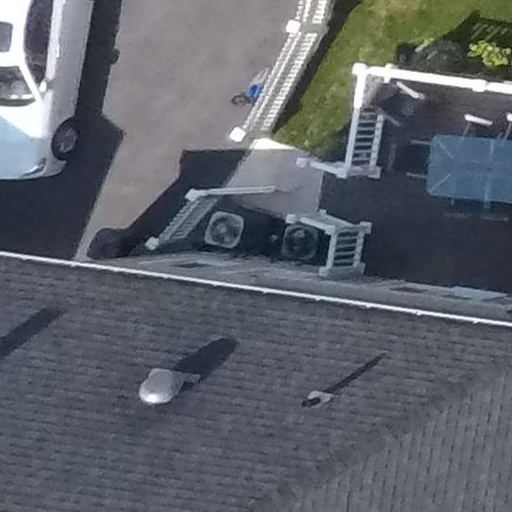air conditioner: (196, 206, 247, 251), (270, 222, 318, 264)
car: (1, 1, 93, 194)
table: (418, 128, 512, 203)
